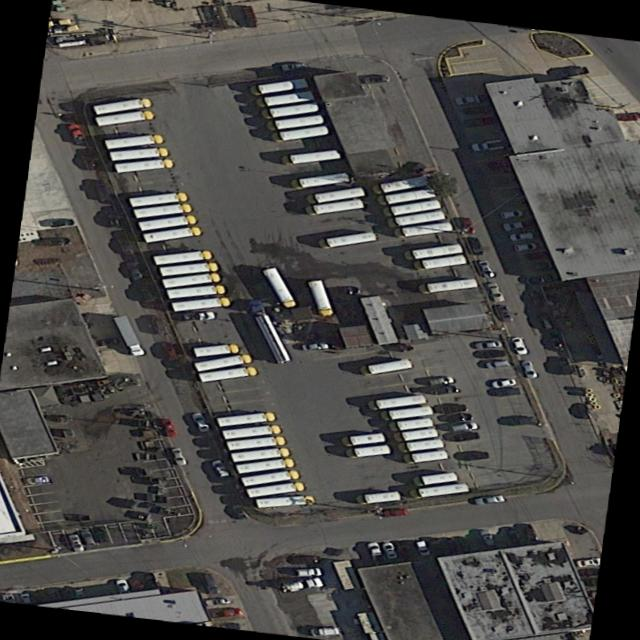large-vehicle: (248, 298, 294, 362), (112, 313, 147, 354), (263, 266, 298, 307), (318, 229, 378, 248), (245, 480, 304, 498), (292, 170, 350, 188), (308, 185, 366, 203), (193, 352, 252, 369), (384, 198, 442, 215), (94, 96, 152, 113), (404, 242, 465, 258), (239, 468, 300, 484), (104, 132, 165, 148), (307, 196, 364, 213), (268, 112, 325, 129), (162, 270, 219, 287), (394, 220, 454, 236), (368, 393, 428, 409), (377, 187, 437, 203), (235, 456, 295, 472), (374, 175, 430, 192), (308, 277, 333, 315), (419, 276, 478, 292), (271, 124, 330, 140), (261, 101, 320, 117), (257, 89, 316, 105), (251, 77, 310, 93), (198, 365, 257, 381), (139, 214, 198, 230), (95, 109, 154, 125), (143, 225, 201, 241), (388, 209, 445, 225), (215, 410, 275, 425), (159, 260, 218, 275), (152, 248, 211, 263), (134, 202, 193, 217), (114, 157, 173, 172), (361, 357, 413, 374), (167, 282, 225, 297), (220, 424, 281, 438), (283, 148, 339, 163), (225, 435, 285, 449), (412, 482, 468, 497), (230, 446, 289, 460), (129, 191, 188, 205), (414, 253, 467, 268), (172, 296, 231, 309), (108, 146, 167, 159), (257, 494, 315, 507), (381, 404, 433, 418), (391, 426, 438, 440), (403, 448, 450, 462), (345, 443, 392, 457), (413, 470, 458, 484), (357, 489, 402, 503), (192, 343, 238, 356), (342, 431, 387, 444), (389, 417, 434, 429), (399, 438, 443, 450)
small-vehicle: (281, 575, 326, 593), (112, 228, 137, 255), (467, 136, 506, 152), (365, 539, 388, 563), (189, 411, 214, 432), (554, 64, 591, 78), (207, 605, 246, 618), (75, 146, 98, 168), (148, 313, 171, 335), (65, 122, 88, 143), (447, 419, 480, 433), (90, 178, 110, 201), (100, 205, 123, 225), (473, 493, 508, 506), (484, 280, 505, 301), (518, 357, 539, 378), (158, 340, 179, 361), (125, 260, 146, 281), (208, 458, 231, 477), (182, 309, 218, 321), (466, 115, 499, 128), (473, 346, 508, 358), (380, 539, 401, 559), (135, 283, 157, 302), (463, 103, 495, 116), (440, 400, 469, 414), (524, 271, 555, 284), (453, 92, 484, 105), (536, 309, 556, 329), (202, 572, 221, 593), (452, 429, 482, 442), (425, 373, 455, 386), (169, 446, 188, 466), (547, 331, 567, 350), (556, 355, 575, 375), (413, 537, 433, 556), (231, 502, 252, 520), (506, 229, 535, 242), (507, 413, 536, 426), (574, 555, 605, 567), (522, 259, 553, 271), (279, 60, 310, 72), (430, 383, 461, 395), (520, 248, 548, 261), (476, 258, 495, 277), (444, 410, 474, 422), (309, 625, 341, 636), (495, 384, 522, 397), (44, 234, 73, 246), (47, 215, 76, 227), (67, 532, 85, 551), (528, 289, 547, 307), (497, 302, 515, 321), (511, 335, 530, 353), (513, 239, 539, 252), (491, 375, 519, 387), (292, 565, 322, 576), (502, 218, 532, 229), (328, 284, 361, 294), (483, 357, 513, 368), (94, 525, 112, 543), (498, 207, 525, 219), (462, 449, 489, 461), (466, 235, 483, 254), (478, 528, 497, 545), (23, 473, 52, 484), (474, 338, 505, 348), (363, 72, 391, 83), (301, 340, 329, 351), (160, 418, 177, 436), (382, 506, 409, 517), (204, 595, 233, 605), (572, 402, 591, 417), (113, 577, 132, 592), (291, 554, 320, 563), (81, 529, 96, 545), (459, 217, 475, 232), (616, 111, 640, 120), (18, 591, 34, 604)
